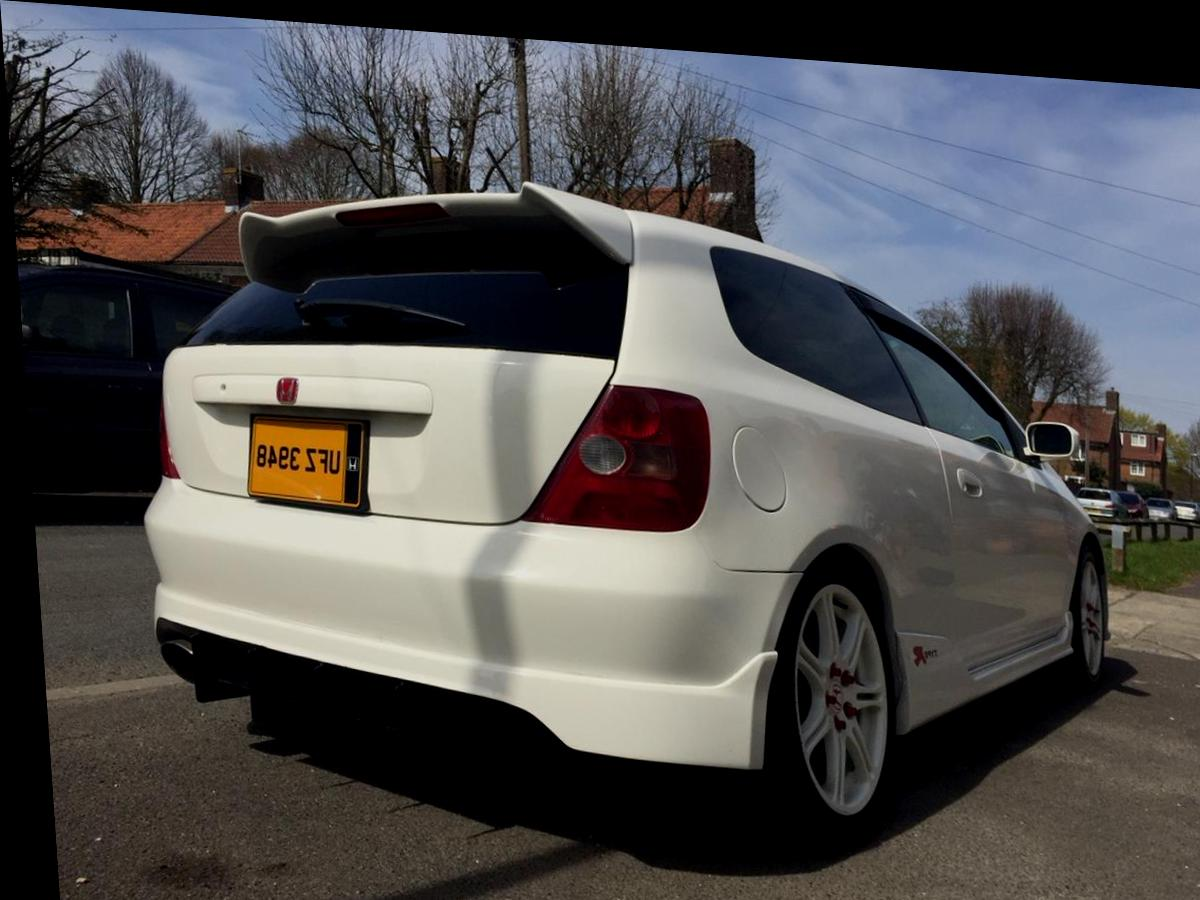License_Plate: (222, 400, 395, 536)
